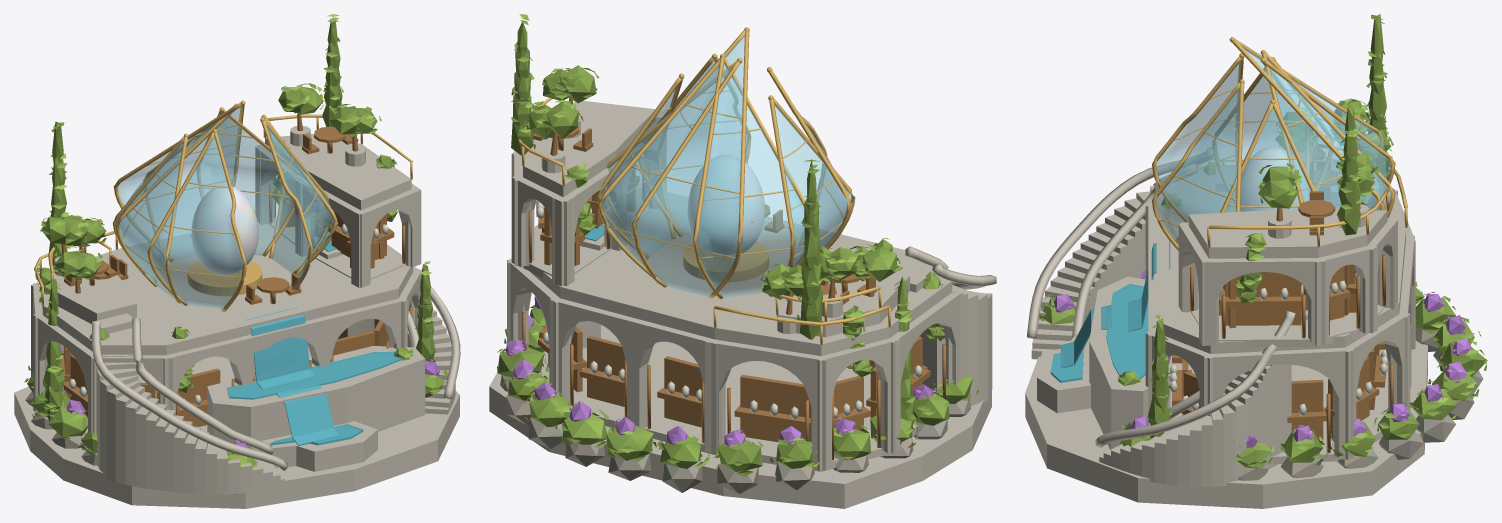
The model's file is hatchery.glb.
3 views of the same model, side by side, from view 1: azimuth 30°, elevation 25°; view 2: azimuth 150°, elevation 25°; view 3: azimuth 270°, elevation 25° (orthographic). The views are drawn at different scales.
Visible parts, largest first — view 1: hatchery-terraces-L1-S1-hatchery-warm-limestone, hatchery-wings-L1-S2-hatchery-warm-limestone, hatchery-conservatory-L2-S2-hatchery-blue-conservatory-glass, hatchery-wings-L2-S2-hatchery-warm-limestone, hatchery-conservatory-L1-S2-hatchery-blue-conservatory-glass, hatchery-conservatory-L3-S2-hatchery-blue-conservatory-glass, hatchery-terraces-L1-S3-hatchery-warm-limestone, hatchery-terraces-L2-S4-hatchery-garden-colors, hatchery-terraces-L1-S4-hatchery-rooftop-water, hatchery-terraces-L3-S4-hatchery-garden-colors, hatchery-terraces-L1-S4-hatchery-garden-colors, hatchery-egg-L1-S4-hatchery-iridescent-opal-egg (+19 smaller); view 2: hatchery-wings-L1-S2-hatchery-warm-limestone, hatchery-conservatory-L1-S2-hatchery-blue-conservatory-glass, hatchery-terraces-L1-S1-hatchery-warm-limestone, hatchery-wings-L2-S2-hatchery-warm-limestone, hatchery-terraces-L1-S4-hatchery-garden-colors, hatchery-wings-L1-S3-hatchery-books-and-walnut, hatchery-terraces-L2-S4-hatchery-garden-colors, hatchery-terraces-L3-S4-hatchery-garden-colors, hatchery-conservatory-L1-S2-hatchery-warm-gold, hatchery-wings-L1-S1-hatchery-warm-limestone, hatchery-conservatory-L3-S2-hatchery-blue-conservatory-glass, hatchery-egg-L1-S4-hatchery-iridescent-opal-egg (+14 smaller); view 3: hatchery-terraces-L1-S1-hatchery-warm-limestone, hatchery-wings-L1-S2-hatchery-warm-limestone, hatchery-wings-L2-S2-hatchery-warm-limestone, hatchery-terraces-L2-S1-hatchery-warm-limestone, hatchery-terraces-L2-S4-hatchery-garden-colors, hatchery-conservatory-L2-S2-hatchery-blue-conservatory-glass, hatchery-terraces-L1-S3-hatchery-warm-limestone, hatchery-terraces-L1-S4-hatchery-garden-colors, hatchery-conservatory-L1-S2-hatchery-blue-conservatory-glass, hatchery-conservatory-L3-S2-hatchery-blue-conservatory-glass, hatchery-terraces-L3-S4-hatchery-garden-colors, hatchery-terraces-L1-S5-hatchery-warm-limestone (+20 smaller).
Part boxes in pixels (x1,y1,x2,y2): hatchery-terraces-L1-S1-hatchery-warm-limestone: [14, 364, 459, 508]; hatchery-wings-L1-S2-hatchery-warm-limestone: [31, 218, 422, 451]; hatchery-conservatory-L2-S2-hatchery-blue-conservatory-glass: [150, 126, 330, 309]; hatchery-wings-L2-S2-hatchery-warm-limestone: [255, 134, 421, 287]; hatchery-conservatory-L1-S2-hatchery-blue-conservatory-glass: [117, 107, 293, 279]; hatchery-conservatory-L3-S2-hatchery-blue-conservatory-glass: [115, 133, 333, 299]; hatchery-terraces-L1-S3-hatchery-warm-limestone: [96, 336, 425, 486]; hatchery-terraces-L2-S4-hatchery-garden-colors: [24, 14, 448, 468]; hatchery-terraces-L1-S4-hatchery-rooftop-water: [227, 307, 403, 399]; hatchery-terraces-L3-S4-hatchery-garden-colors: [30, 213, 435, 421]; hatchery-terraces-L1-S4-hatchery-garden-colors: [28, 121, 194, 439]; hatchery-egg-L1-S4-hatchery-iridescent-opal-egg: [191, 185, 258, 274]; hatchery-wings-L1-S2-hatchery-warm-limestone: [507, 187, 963, 470]; hatchery-conservatory-L1-S2-hatchery-blue-conservatory-glass: [601, 35, 804, 297]; hatchery-terraces-L1-S1-hatchery-warm-limestone: [489, 299, 992, 508]; hatchery-wings-L2-S2-hatchery-warm-limestone: [511, 101, 666, 286]; hatchery-terraces-L1-S4-hatchery-garden-colors: [502, 159, 949, 468]; hatchery-wings-L1-S3-hatchery-books-and-walnut: [538, 325, 930, 442]; hatchery-terraces-L2-S4-hatchery-garden-colors: [504, 14, 978, 468]; hatchery-terraces-L3-S4-hatchery-garden-colors: [497, 246, 918, 476]; hatchery-conservatory-L1-S2-hatchery-warm-gold: [598, 30, 805, 299]; hatchery-wings-L1-S1-hatchery-warm-limestone: [541, 325, 917, 471]; hatchery-conservatory-L3-S2-hatchery-blue-conservatory-glass: [601, 88, 852, 265]; hatchery-egg-L1-S4-hatchery-iridescent-opal-egg: [687, 155, 764, 257]; hatchery-terraces-L1-S1-hatchery-warm-limestone: [1025, 226, 1483, 508]; hatchery-wings-L1-S2-hatchery-warm-limestone: [1145, 165, 1415, 459]; hatchery-wings-L2-S2-hatchery-warm-limestone: [1178, 209, 1397, 345]; hatchery-terraces-L2-S1-hatchery-warm-limestone: [1037, 336, 1455, 486]; hatchery-terraces-L2-S4-hatchery-garden-colors: [1039, 98, 1480, 465]; hatchery-conservatory-L2-S2-hatchery-blue-conservatory-glass: [1156, 63, 1239, 244]; hatchery-terraces-L1-S3-hatchery-warm-limestone: [1031, 173, 1205, 397]; hatchery-terraces-L1-S4-hatchery-garden-colors: [1148, 14, 1487, 468]; hatchery-conservatory-L1-S2-hatchery-blue-conservatory-glass: [1242, 46, 1392, 210]; hatchery-conservatory-L3-S2-hatchery-blue-conservatory-glass: [1225, 76, 1318, 212]; hatchery-terraces-L3-S4-hatchery-garden-colors: [1117, 99, 1479, 456]; hatchery-terraces-L1-S5-hatchery-warm-limestone: [1027, 147, 1213, 338].
Size of the model in its own units: 2.91 by 2.51 by 2.74.
